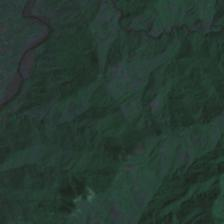landslides: (174, 7, 186, 25)
